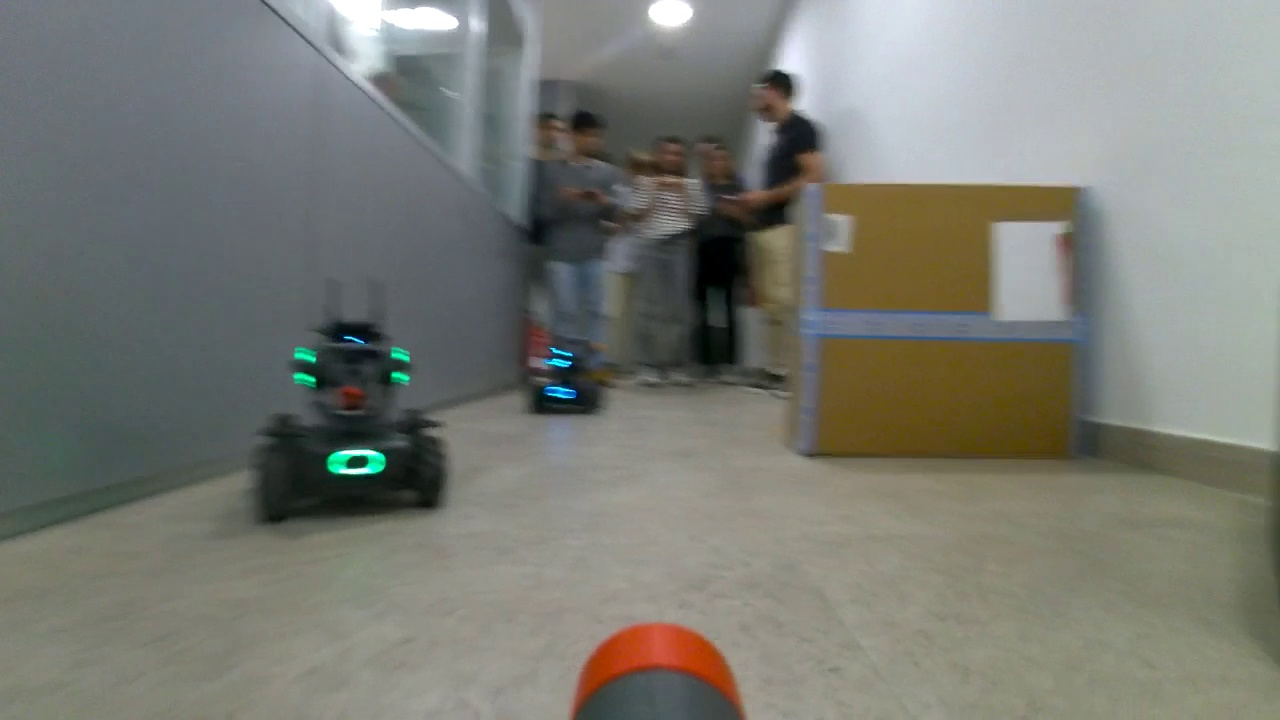robot: (248, 320, 457, 528), (524, 335, 611, 421)
